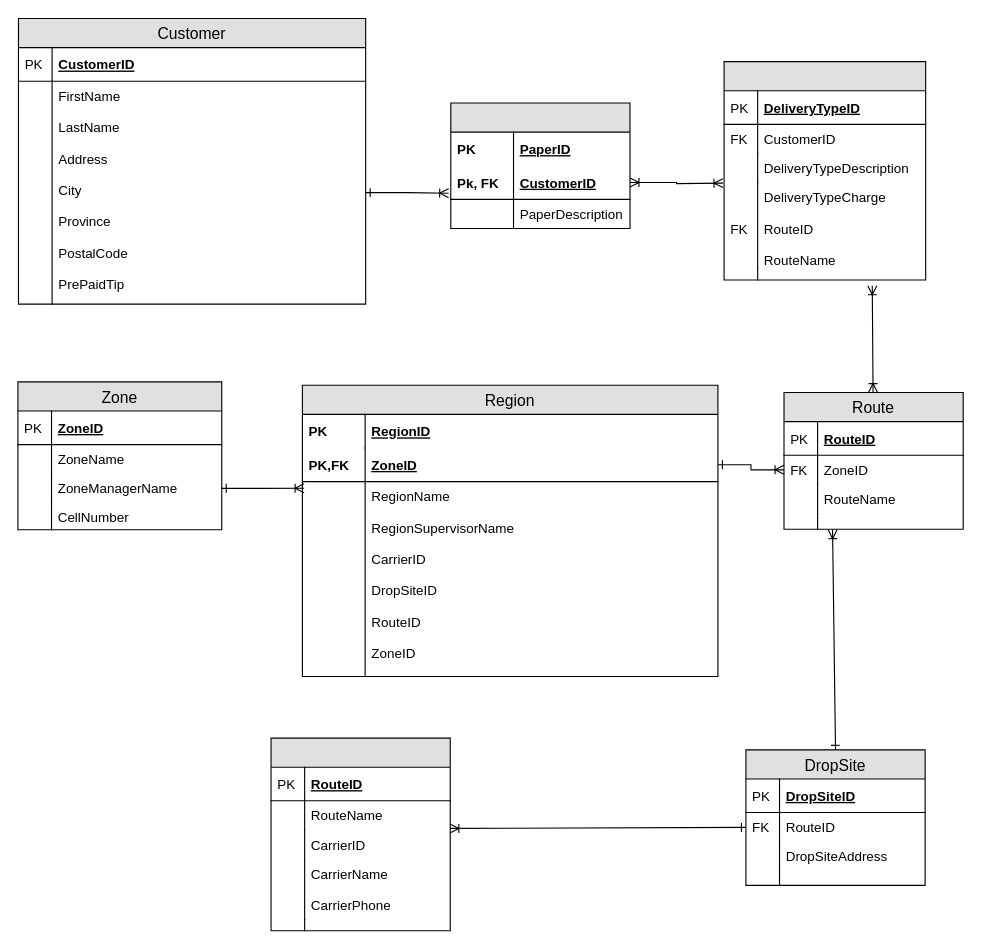
This 981x949 diagram has some shape labels left out. The box of each missing label's shape, as (x1, y1, x2, y2) in pixels:
CarrierRoute: (270, 737, 450, 931)
DeliveryDetails: (723, 60, 926, 280)
PaperOrder: (450, 102, 630, 228)
